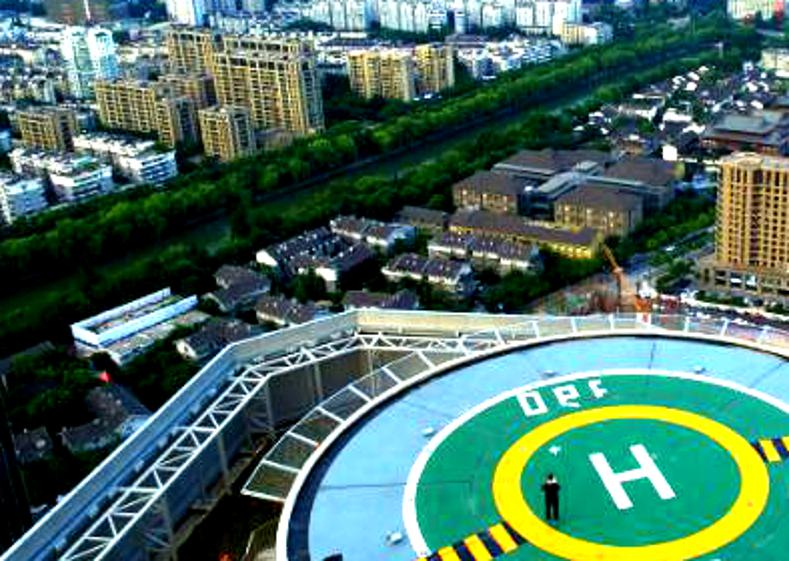Apron: (504, 411, 759, 541)
